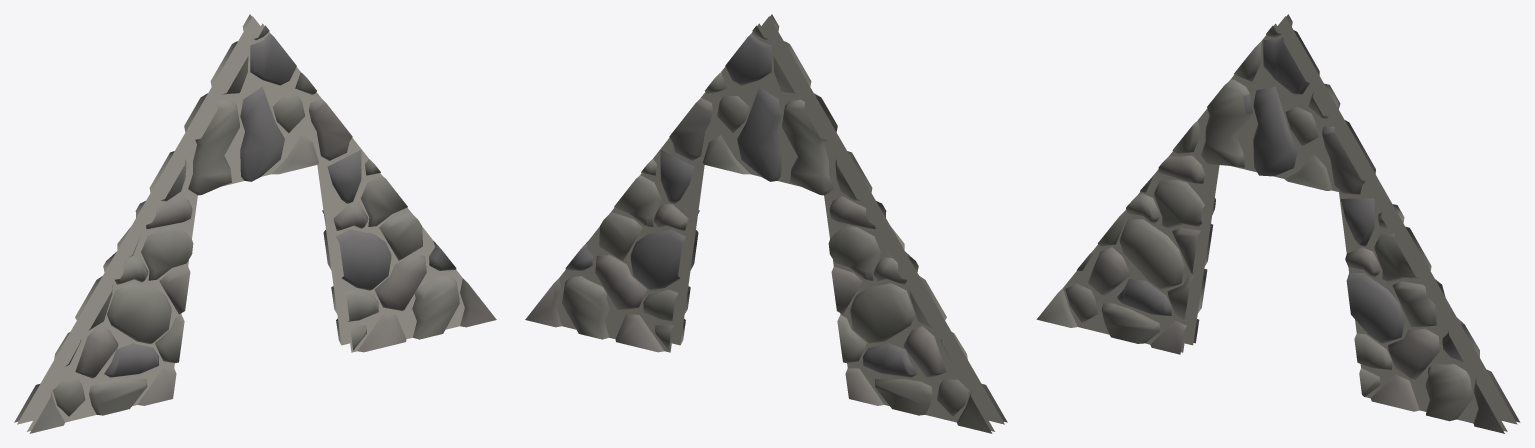
File: rpgpp_ag_roof_end_01_6x5_wall_door_04b.fbx
3 renders of one model, left to right at view 1: azimuth 30°, elevation 25°; view 2: azimuth 150°, elevation 25°; view 3: azimuth 330°, elevation 25°, orthographic.
Visible parts, largest first — view 1: rpgpp_ag_roof_end_01_6x5_wall_door_04b; view 2: rpgpp_ag_roof_end_01_6x5_wall_door_04b; view 3: rpgpp_ag_roof_end_01_6x5_wall_door_04b.
Part boxes in pixels (x1,y1,x2,y2): rpgpp_ag_roof_end_01_6x5_wall_door_04b: (14,14,496,433); rpgpp_ag_roof_end_01_6x5_wall_door_04b: (525,14,1007,433); rpgpp_ag_roof_end_01_6x5_wall_door_04b: (1036,14,1520,433).
Size of the model in its own units: 6.38 by 4.58 by 0.404.
